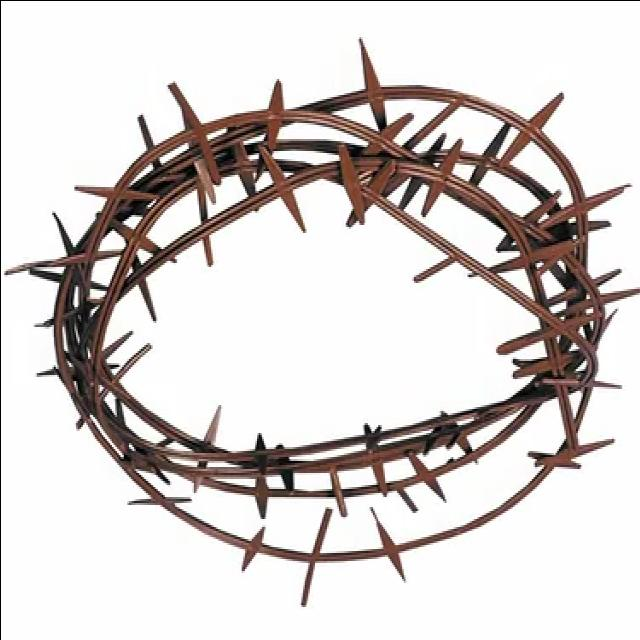crown: (48, 72, 616, 556)
